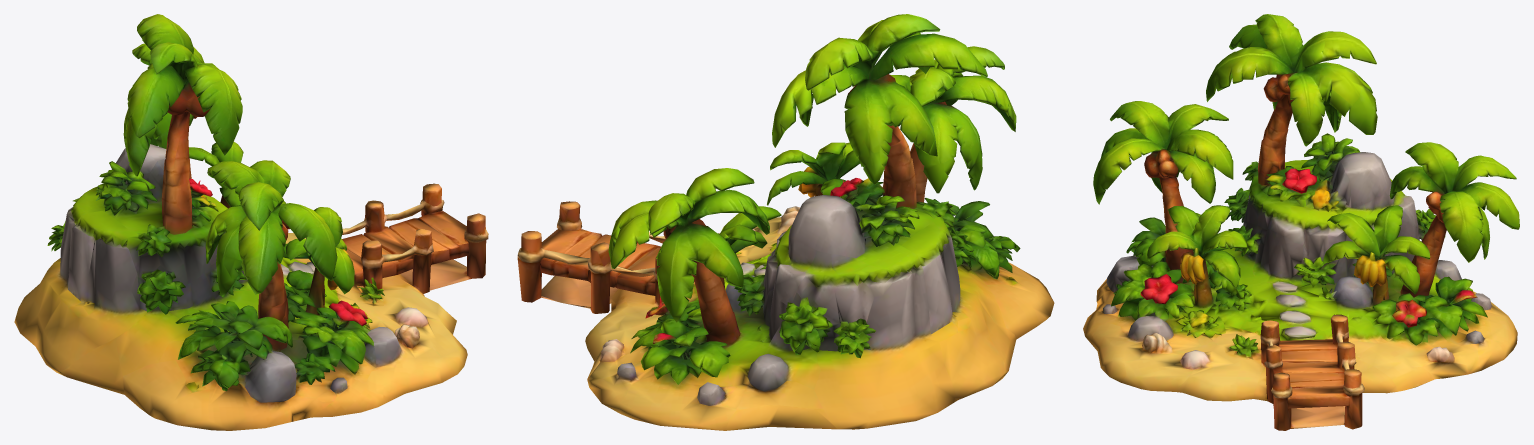
Rendered from isl_a.glb.
3 renders of one model, left to right at view 1: azimuth 30°, elevation 25°; view 2: azimuth 150°, elevation 25°; view 3: azimuth 270°, elevation 25°, orthographic. The views are drawn at different scales.
Visible parts, largest first — view 1: tripo_node_880223ce-cddb-4d9f-955a-589f3e10d528; view 2: tripo_node_880223ce-cddb-4d9f-955a-589f3e10d528; view 3: tripo_node_880223ce-cddb-4d9f-955a-589f3e10d528.
Boxes of the visible parts, box(x1,y1,x2,y2) form: tripo_node_880223ce-cddb-4d9f-955a-589f3e10d528: box(14, 14, 488, 430); tripo_node_880223ce-cddb-4d9f-955a-589f3e10d528: box(517, 14, 1054, 430); tripo_node_880223ce-cddb-4d9f-955a-589f3e10d528: box(1083, 14, 1519, 430).
Size of the model in its own units: 0.9972 by 0.6972 by 0.9994.
1 material, 1 textured.
